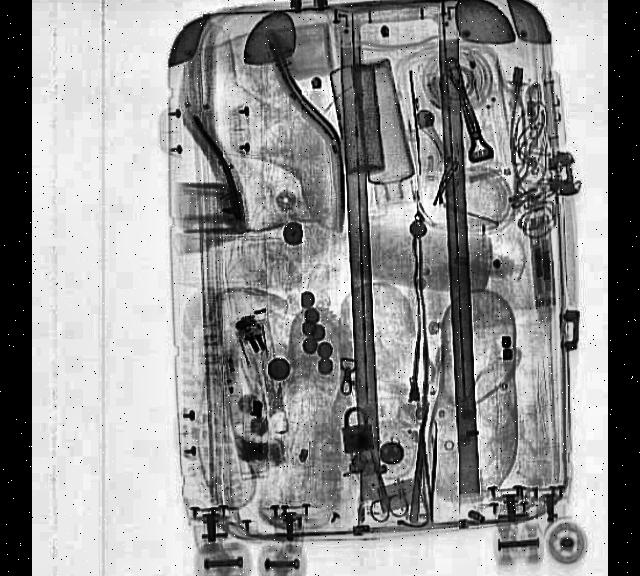Scissors: (348, 434, 409, 528)
